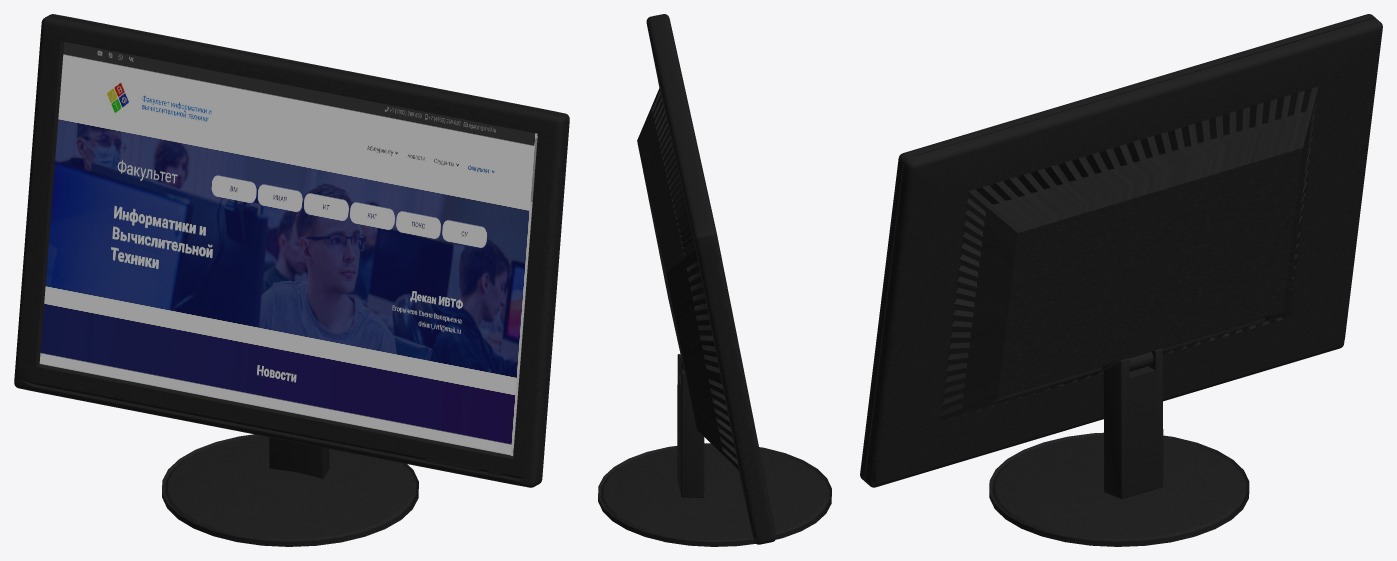
Rendered from Monitor.fbx.
3 views of the same model, side by side, from view 1: azimuth 30°, elevation 25°; view 2: azimuth 150°, elevation 25°; view 3: azimuth 270°, elevation 25° (orthographic). The views are drawn at different scales.
Visible parts, largest first — view 1: монитор; view 2: монитор; view 3: монитор.
Boxes of the visible parts, bbox=[...] form: монитор: bbox=[14, 14, 569, 546]; монитор: bbox=[598, 14, 831, 546]; монитор: bbox=[860, 14, 1382, 546].
Bounding box in the file's own units: 338 × 385 × 435.
2 materials, 2 textured.
